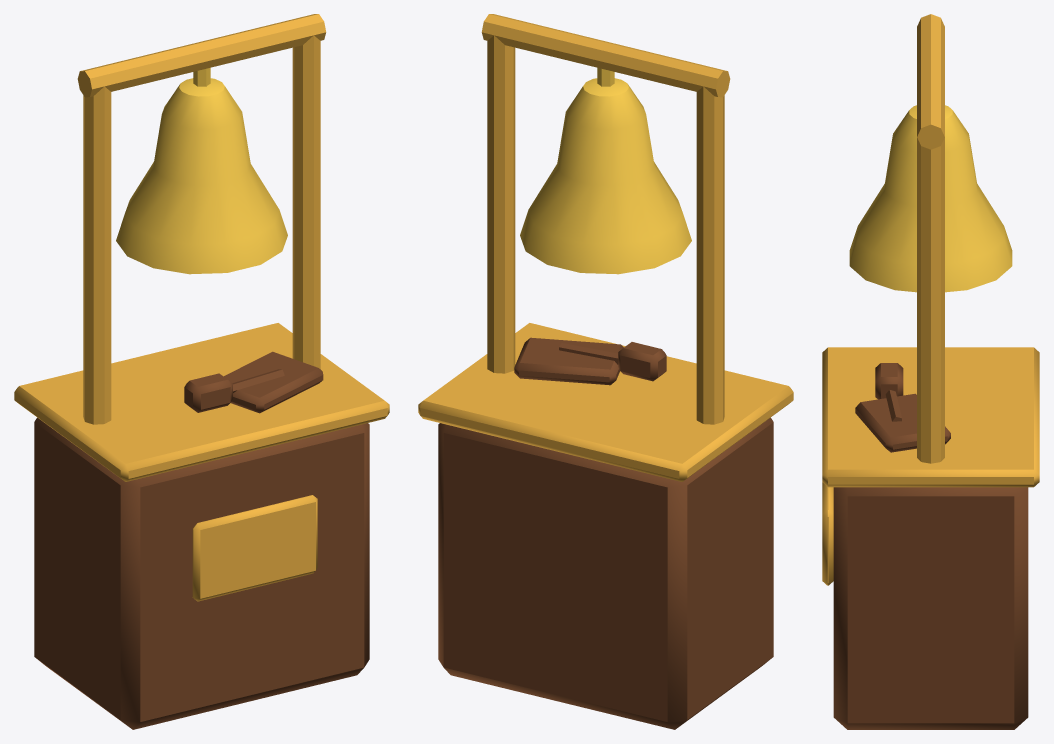
File: ex_bell.glb
3 views of the same model, side by side, from view 1: azimuth 30°, elevation 25°; view 2: azimuth 150°, elevation 25°; view 3: azimuth 270°, elevation 25° (orthographic). The views are drawn at different scales.
Parts seen in each view (by area): view 1: ex_bell, anim_sway_bell; view 2: ex_bell, anim_sway_bell; view 3: ex_bell, anim_sway_bell.
Part boxes in pixels (x1=…): ex_bell: x1=14, y1=14, x2=389, y2=729; anim_sway_bell: x1=116, y1=67, x2=287, y2=274; ex_bell: x1=418, y1=14, x2=793, y2=729; anim_sway_bell: x1=520, y1=67, x2=691, y2=274; ex_bell: x1=822, y1=14, x2=1039, y2=729; anim_sway_bell: x1=849, y1=105, x2=1012, y2=292.
Bounding box in the file's own units: 1.08 × 2.41 × 0.78.
1 material, 1 textured.
